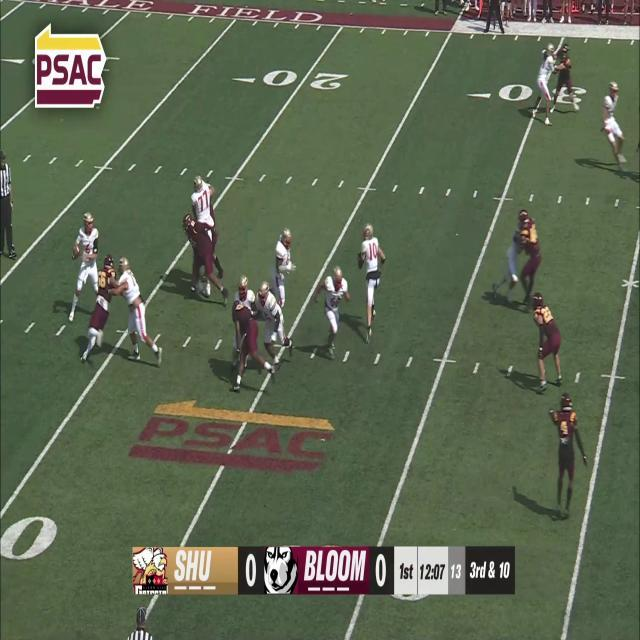football: (72, 246, 80, 261)
